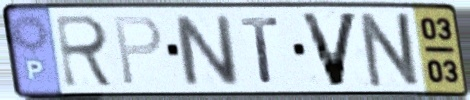N: (169, 12, 244, 88), (357, 9, 424, 90)
P: (111, 13, 165, 88)
R: (52, 12, 119, 90)
T: (238, 14, 282, 85)
V: (296, 10, 363, 90)
